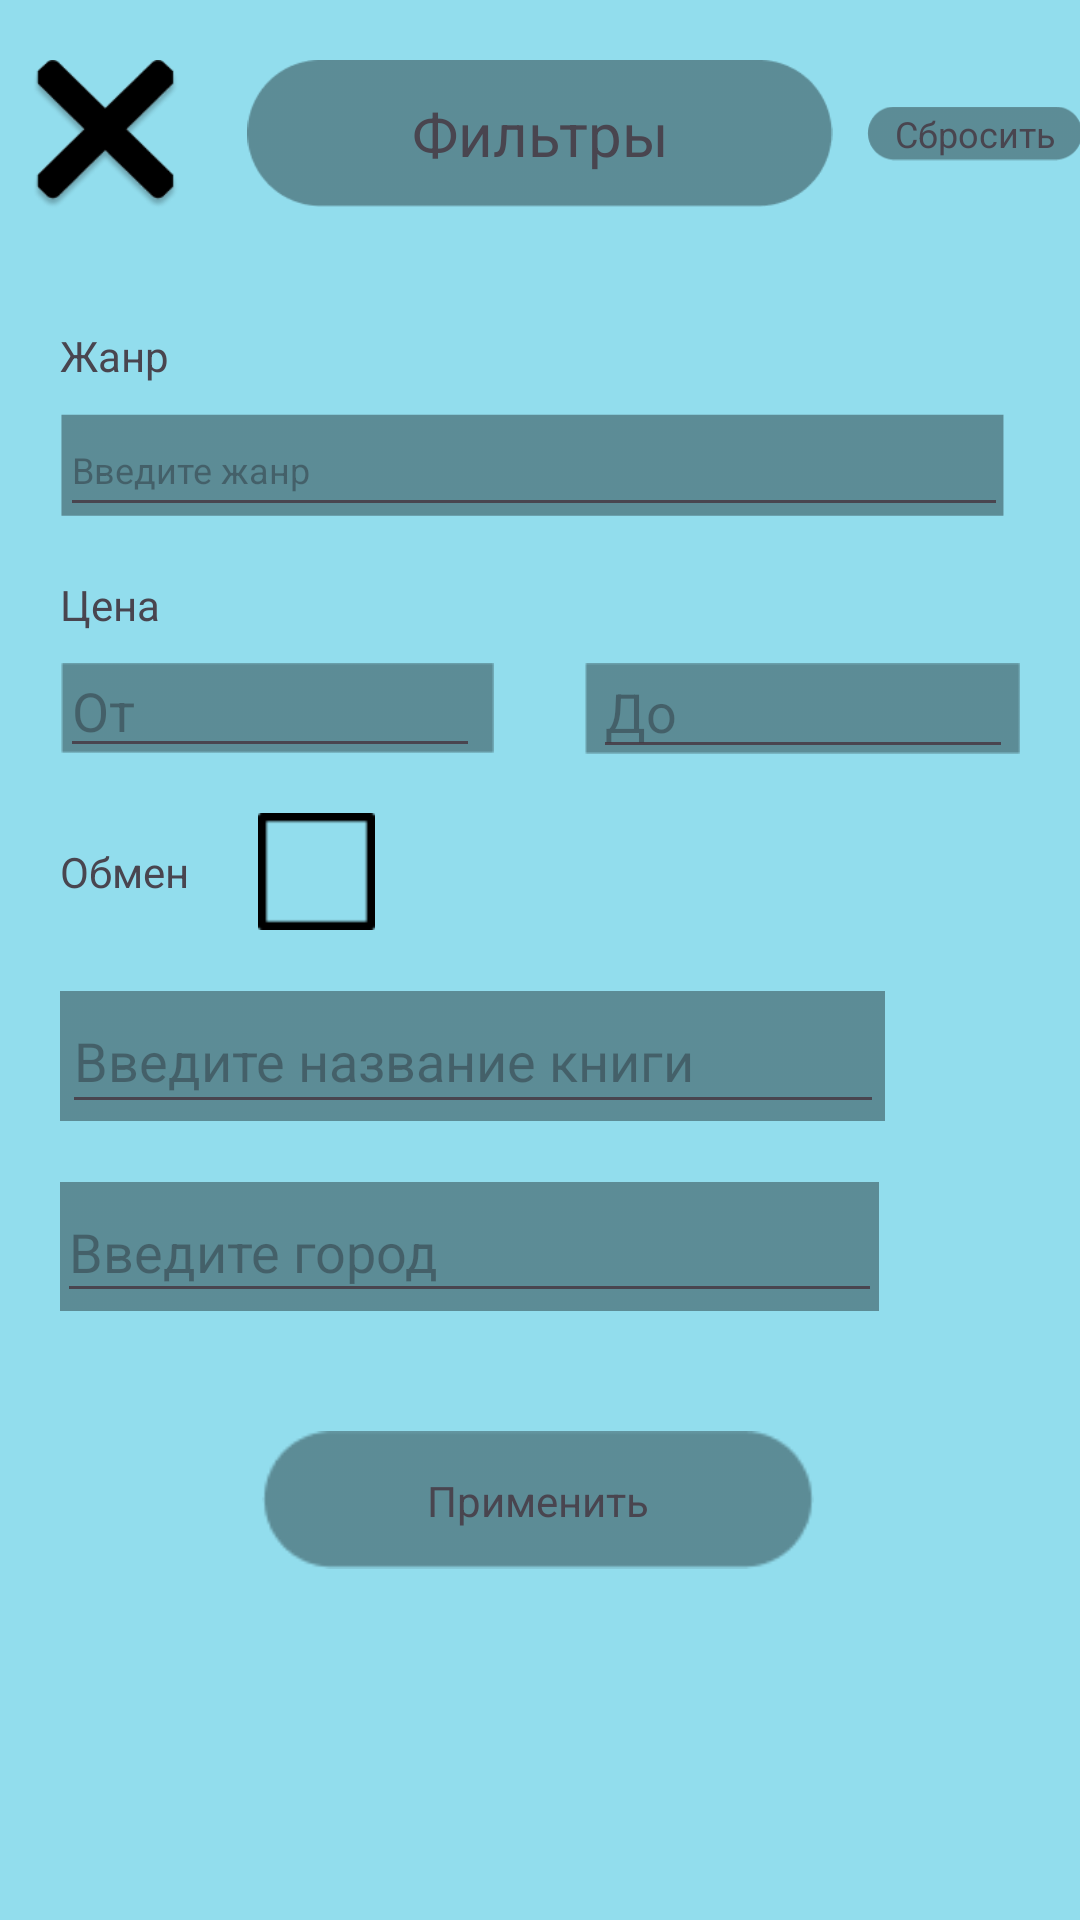

Locate icon controls on the screen. Image size 1080px x 1920px, boxes as (x1, y1, x2, y2).
krest: (36, 60, 174, 204)
